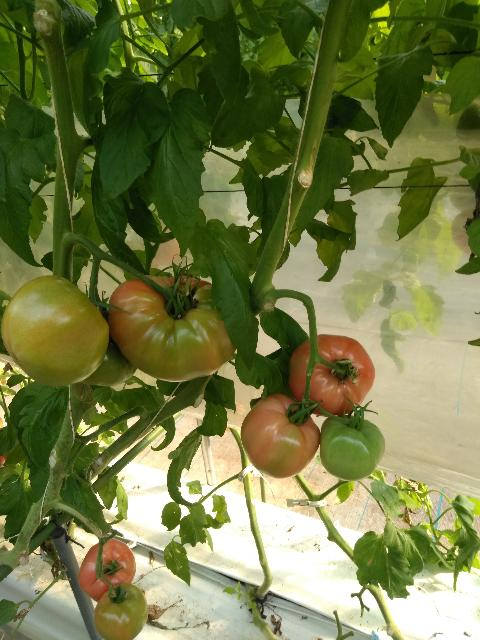b_green: (1, 274, 110, 386), (320, 414, 386, 482), (94, 583, 149, 640), (79, 332, 137, 386)
b_half_ripened: (108, 275, 241, 382), (288, 333, 376, 417), (240, 394, 321, 478), (78, 538, 136, 602)
